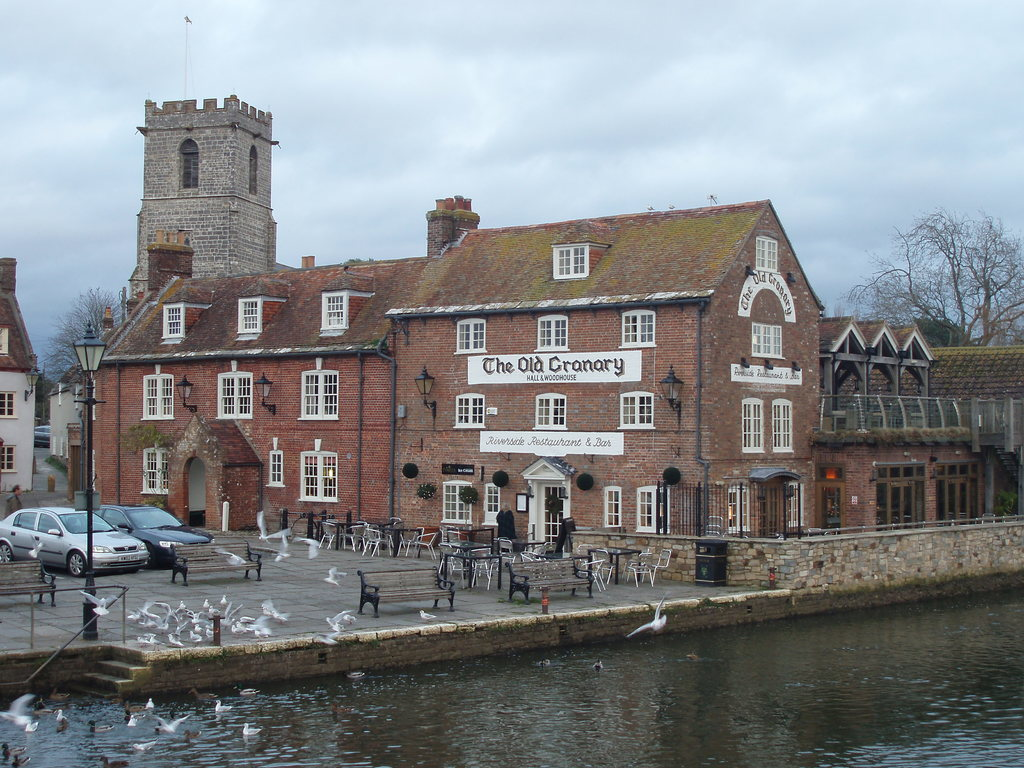Car: (0, 510, 151, 593), (96, 502, 215, 568)
